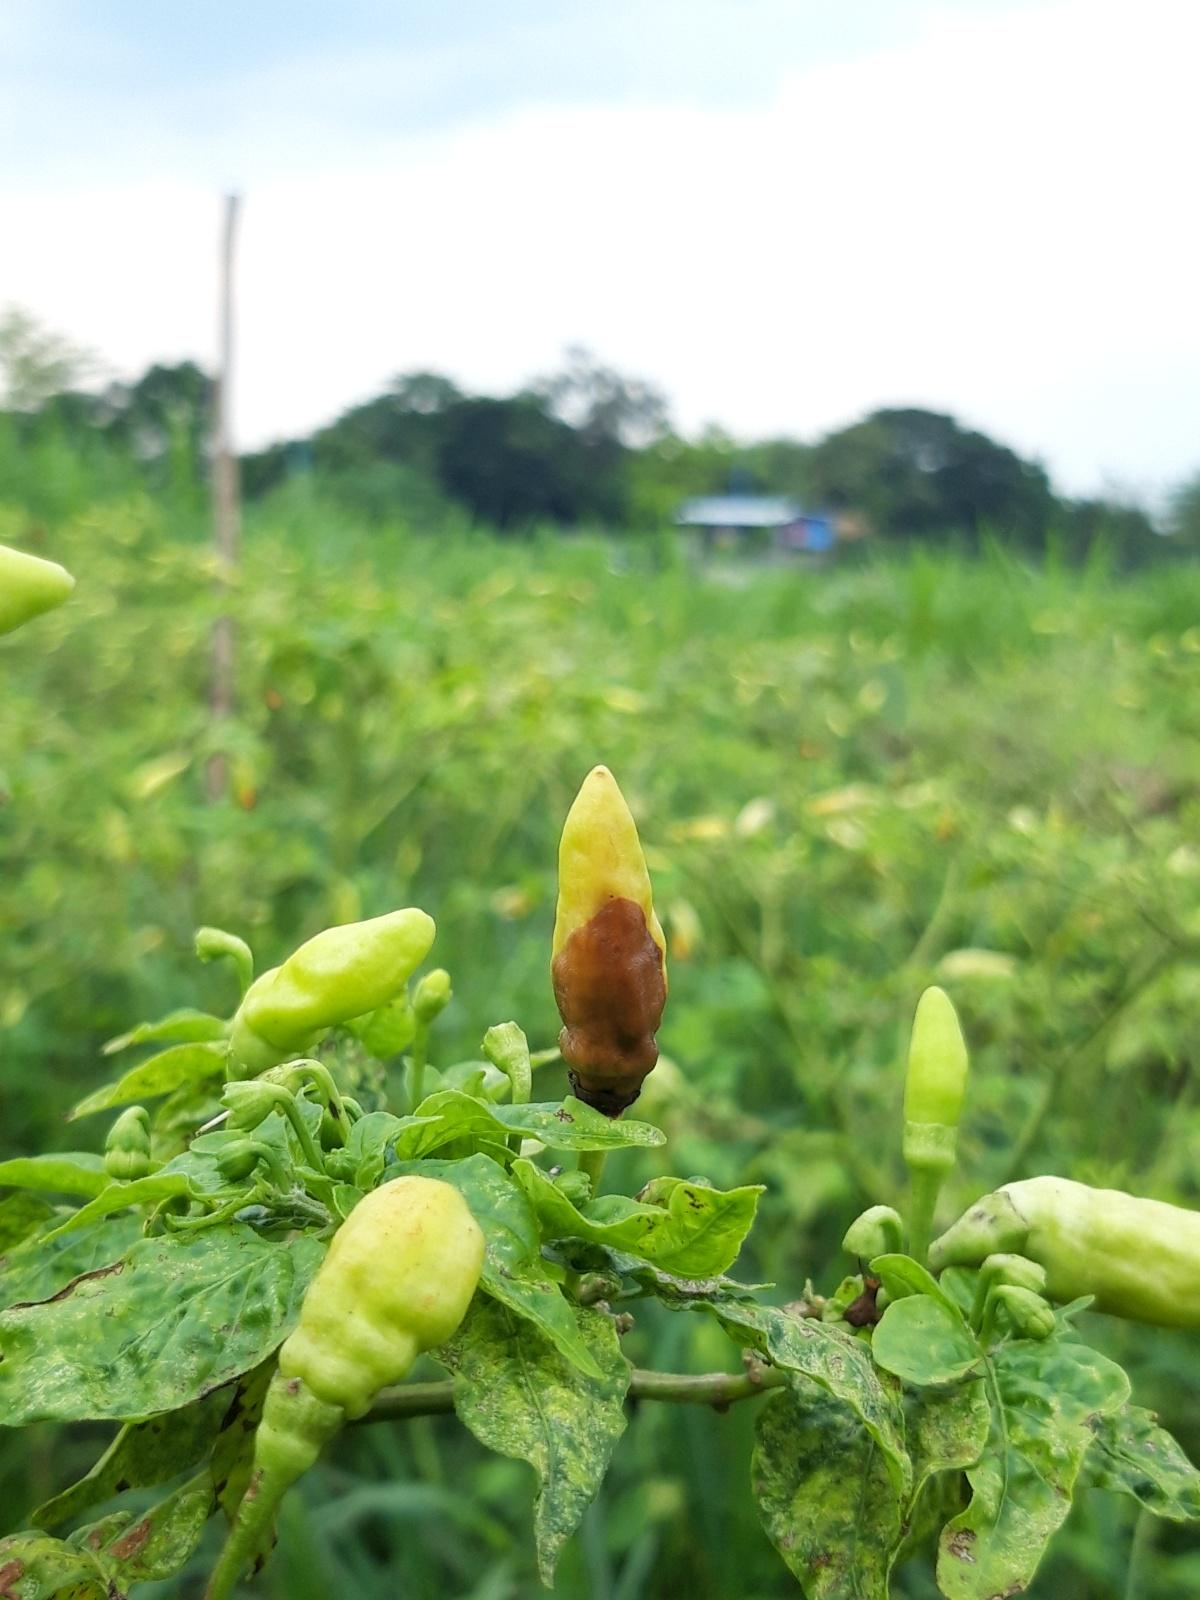cabai_normal: (258, 1175, 487, 1443), (966, 1173, 1200, 1338), (221, 907, 437, 1077), (903, 985, 972, 1167)
lalat_buah: (550, 763, 671, 1121)
